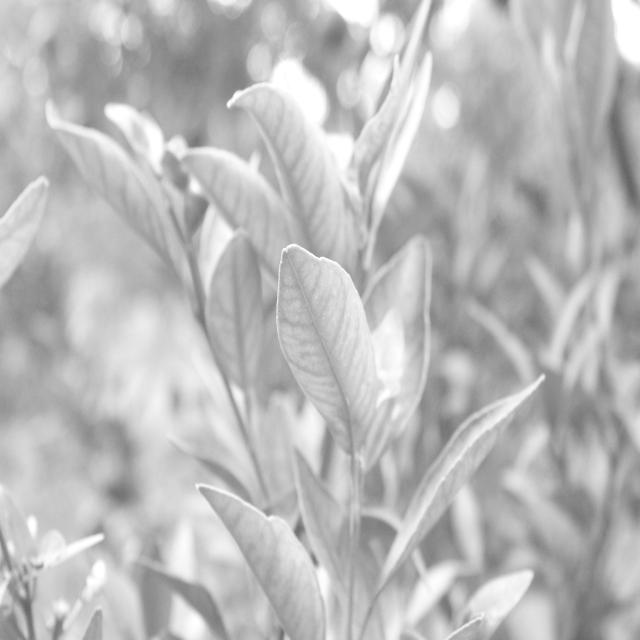greening: (46, 91, 167, 264), (274, 245, 374, 449), (209, 482, 326, 640), (236, 86, 345, 239), (206, 234, 269, 399), (2, 169, 45, 284)
